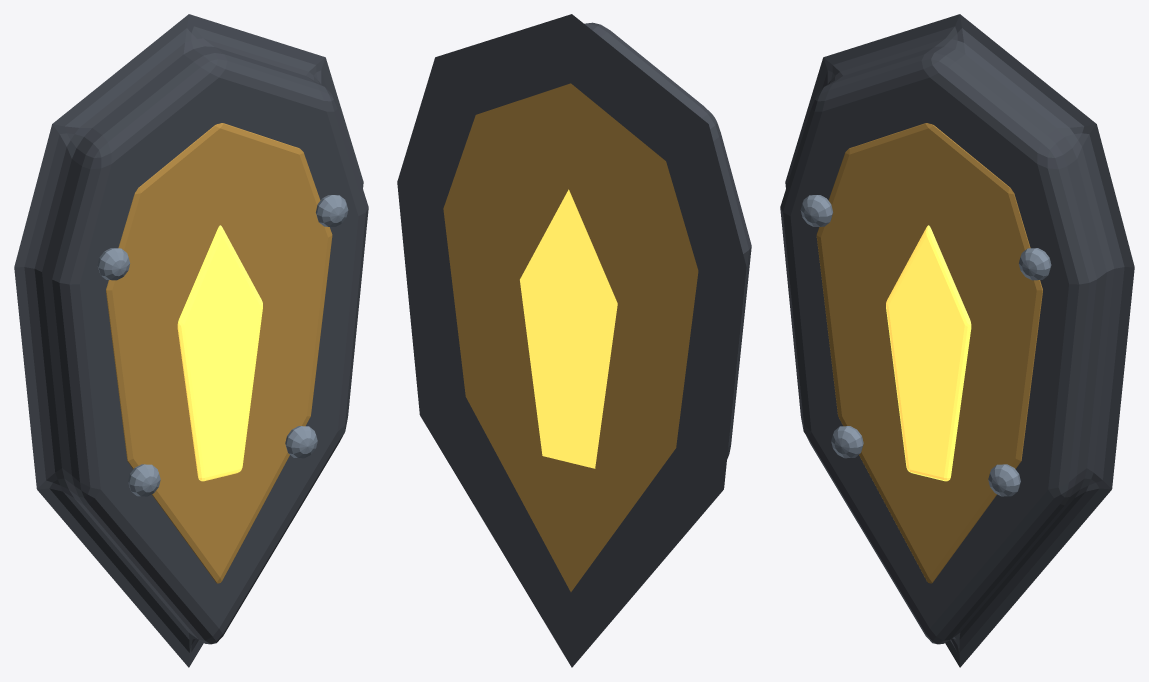
The model's file is offhand_bastion_shield.glb.
3 views of the same model, side by side, from view 1: azimuth 30°, elevation 25°; view 2: azimuth 150°, elevation 25°; view 3: azimuth 330°, elevation 25° (orthographic).
Parts seen in each view (by area): view 1: BastionShield, GoldFace, SunSigil, Rivet.002, Rivet, Rivet.001, Rivet.003; view 2: BastionShield, GoldFace, SunSigil; view 3: BastionShield, GoldFace, SunSigil, Rivet.003, Rivet.001, Rivet, Rivet.002.
Boxes of the visible parts, x1=… form: BastionShield: x1=14, y1=14, x2=368, y2=667; GoldFace: x1=106, y1=123, x2=332, y2=583; SunSigil: x1=177, y1=225, x2=262, y2=481; Rivet.002: x1=128, y1=464, x2=160, y2=496; Rivet: x1=97, y1=248, x2=130, y2=280; Rivet.001: x1=315, y1=195, x2=348, y2=226; Rivet.003: x1=285, y1=426, x2=317, y2=458; BastionShield: x1=397, y1=14, x2=751, y2=667; GoldFace: x1=443, y1=83, x2=698, y2=591; SunSigil: x1=520, y1=189, x2=617, y2=468; BastionShield: x1=780, y1=14, x2=1134, y2=667; GoldFace: x1=816, y1=123, x2=1042, y2=583; SunSigil: x1=886, y1=225, x2=971, y2=481; Rivet.003: x1=988, y1=464, x2=1020, y2=496; Rivet.001: x1=1018, y1=248, x2=1051, y2=280; Rivet: x1=800, y1=195, x2=833, y2=226; Rivet.002: x1=831, y1=426, x2=863, y2=458.
Bounding box in the file's own units: 0.8012 × 1.43 × 0.1725.
